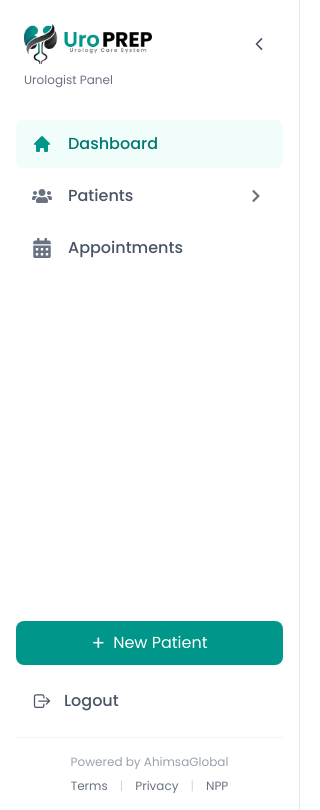
Test: UrologistSidebar › handles collapse toggle
Step 1. Click the button named "Collapse sidebar" → (259, 44), box [243, 28, 275, 60]
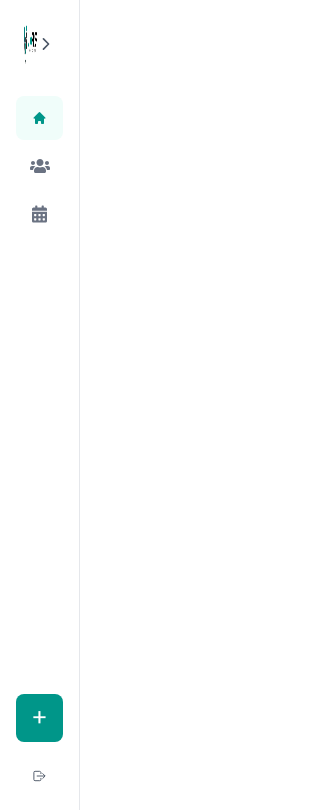
Expected: the text "Urologist Panel" is gone
Step 2. Click the button named "Expand sidebar" → (46, 44), box [37, 28, 55, 60]
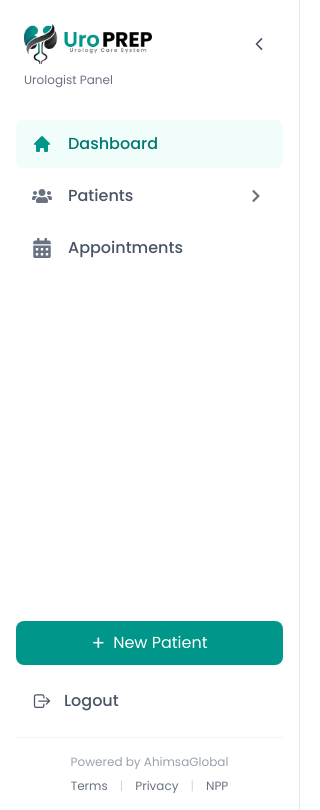
Expected: the text "Urologist Panel" is shown, [24, 71, 113, 88]
